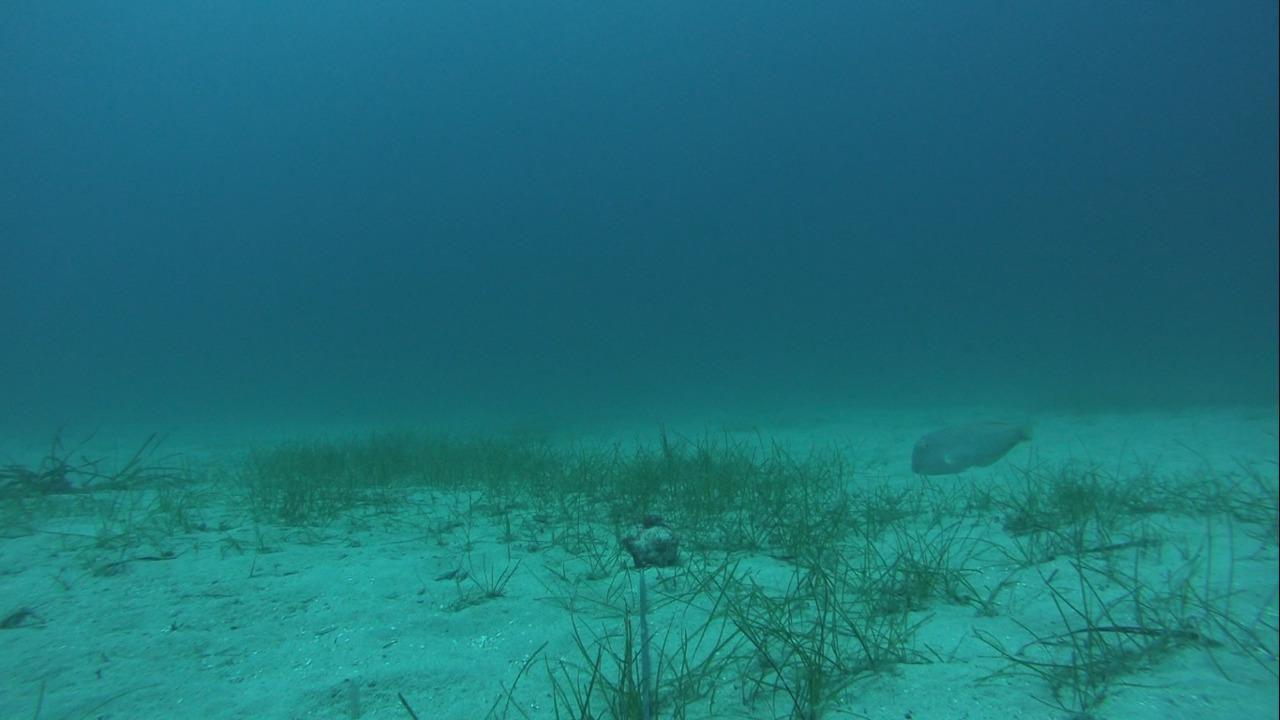raor: (908, 412, 1037, 477)
